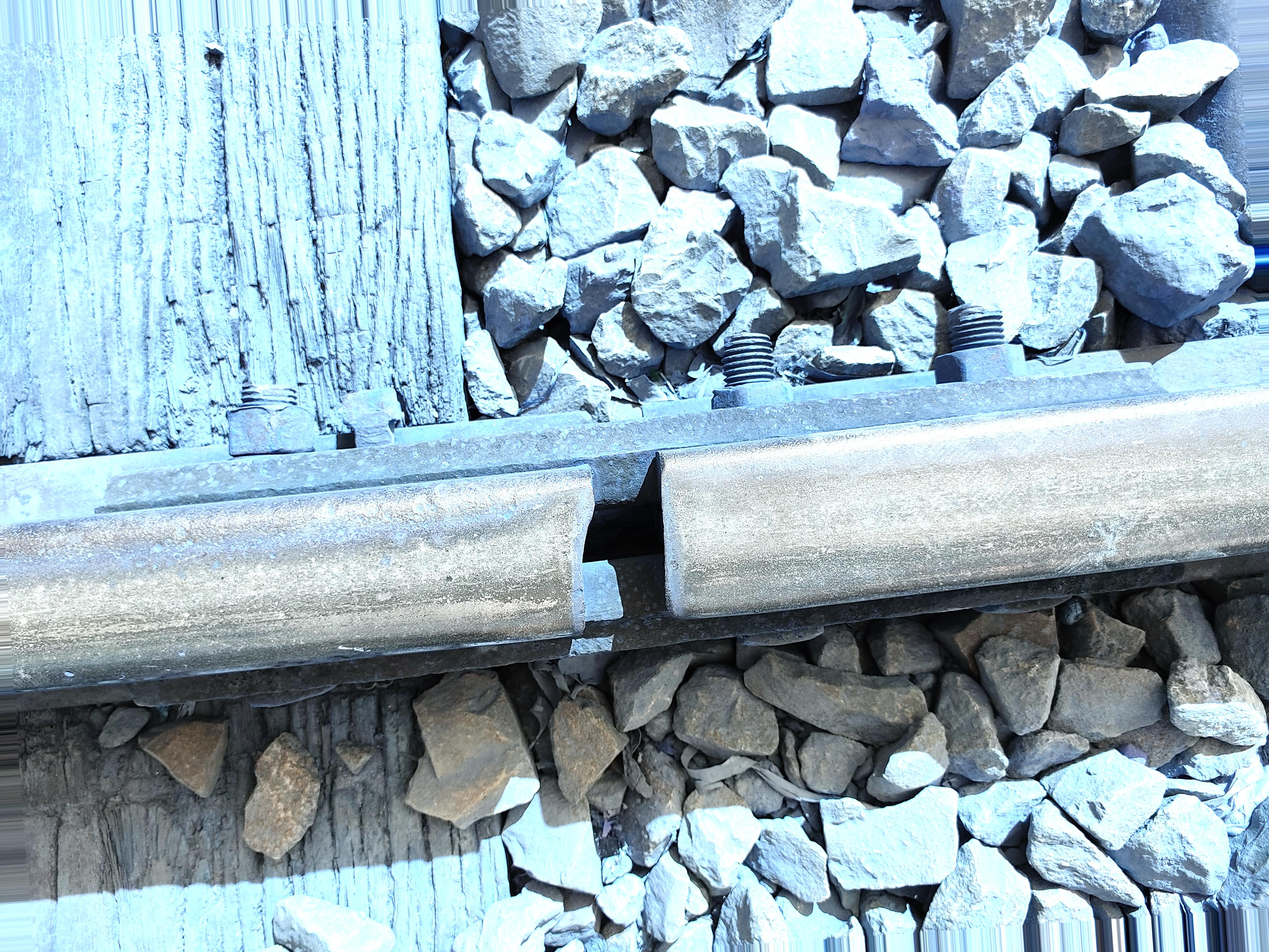tracks_fault: (496, 441, 754, 656)
